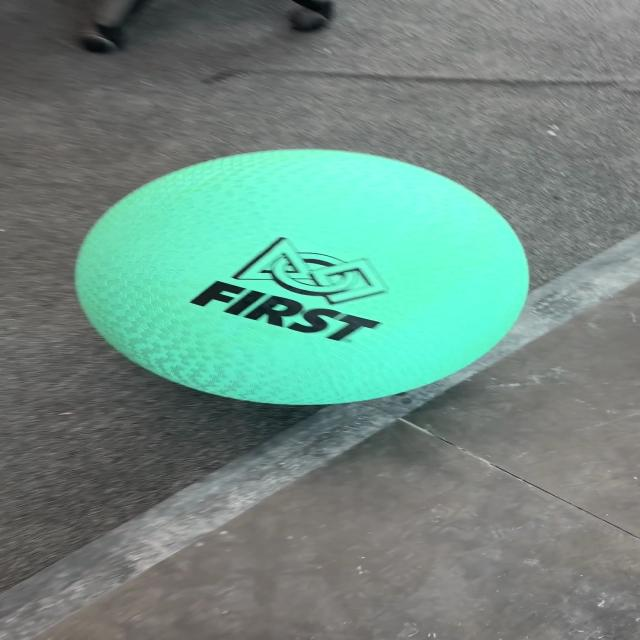Algae: (73, 148, 530, 406)
